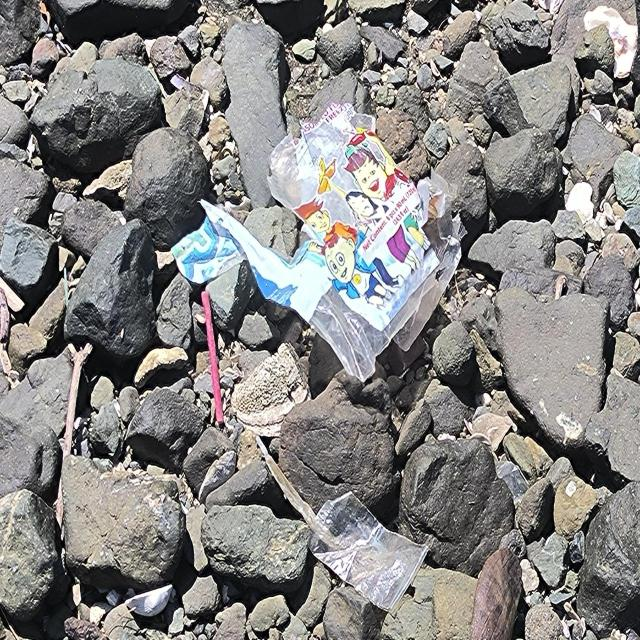plastic_waste: (269, 101, 469, 384), (307, 492, 431, 619), (202, 290, 225, 426)
